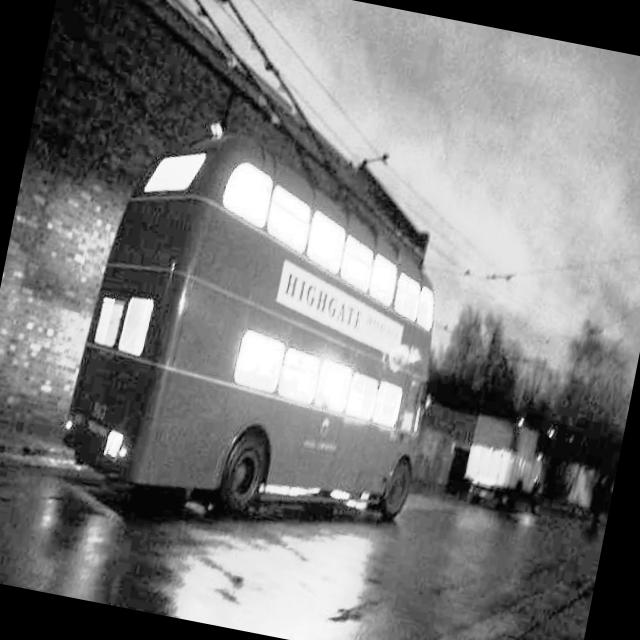Bus: (29, 172, 472, 617)
